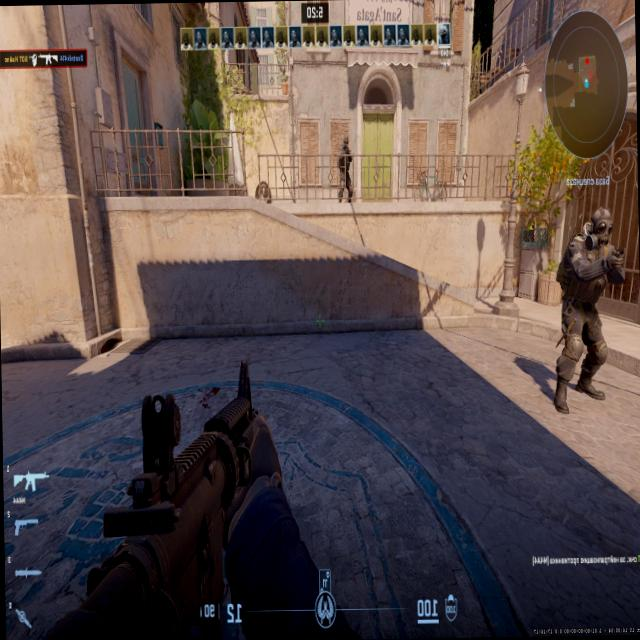CT: (560, 212, 616, 368), (339, 135, 353, 197), (342, 142, 348, 152)
CT_heat: (586, 218, 607, 252)
